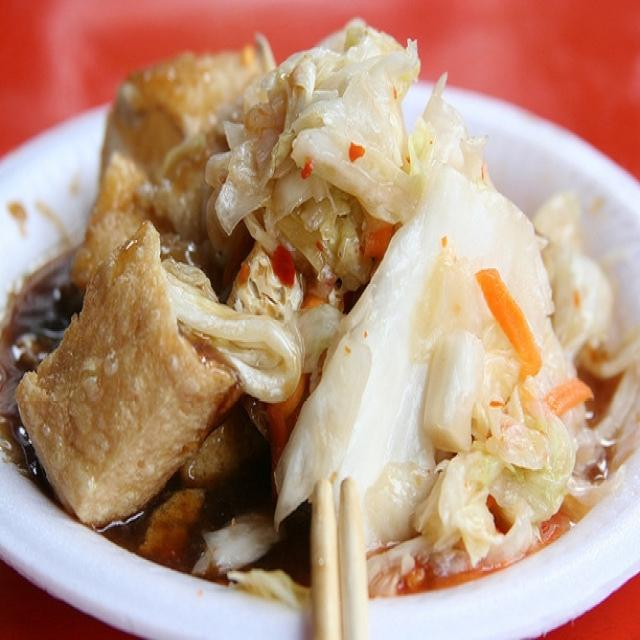豆腐料理: (11, 16, 634, 621)
